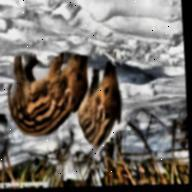boar: (0, 34, 91, 157), (74, 57, 141, 156)
